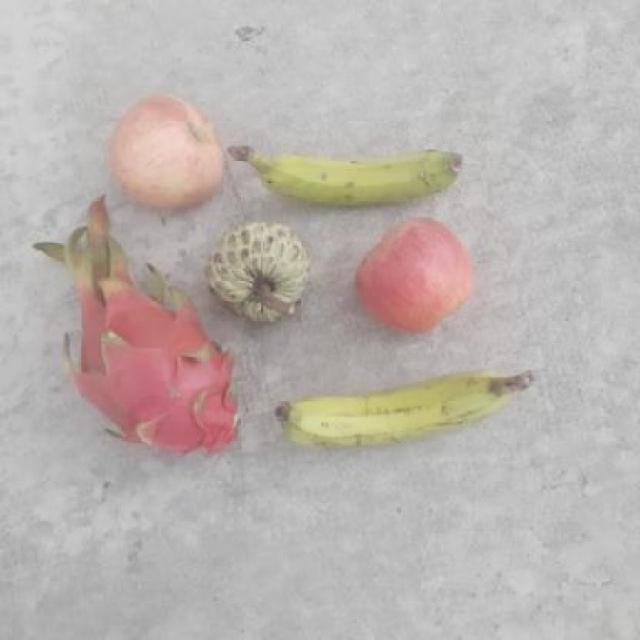apple: (101, 82, 234, 216), (358, 218, 476, 333)
banana: (270, 363, 502, 462), (253, 133, 464, 212)
dragon fruit: (64, 275, 248, 467)
sugar apple: (202, 218, 316, 328)
